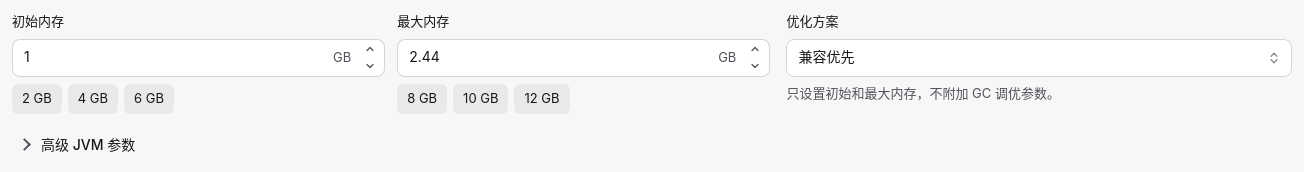
Test: memory: the arrows in the box and the ↑ ↓ keys step by 1 GB to the adjacent whole GB, not below 0.5 GB
The width and height of the screenshot is (1304, 172).
Later steps or results of the test are not shown.
Click the field labelled "最大内存".
click(584, 58)  # box [397,38,770,76]
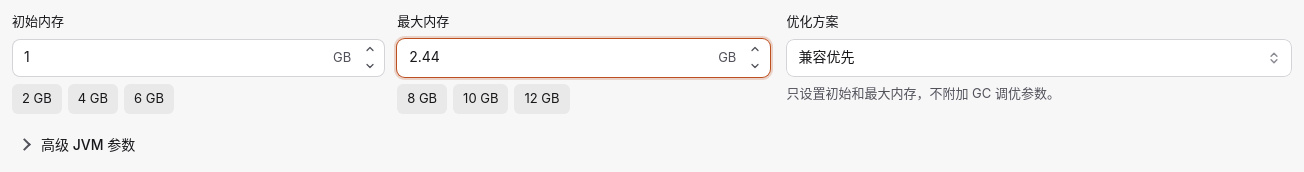
Click the button named "最大内存减 1 GB".
click(755, 66)  # box [743,58,767,74]
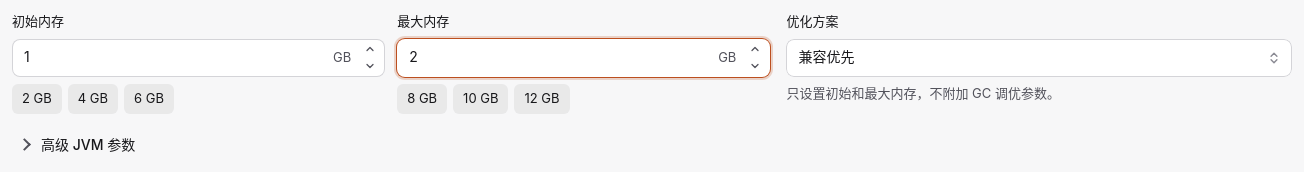
expect the field labelled "最大内存" holds "2": met, box [397,38,770,76]
Press Arrowup Arrowup
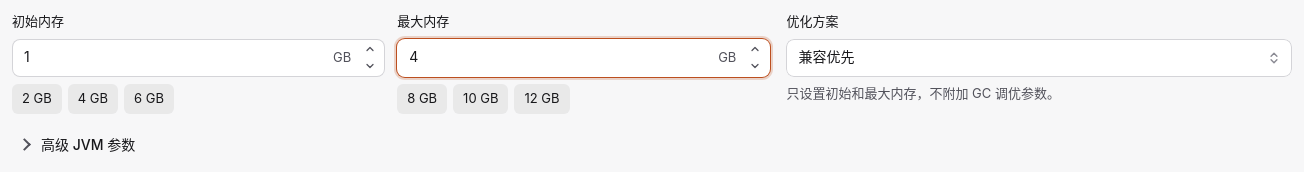
expect the field labelled "最大内存" holds "4": met, box [397,38,770,76]
